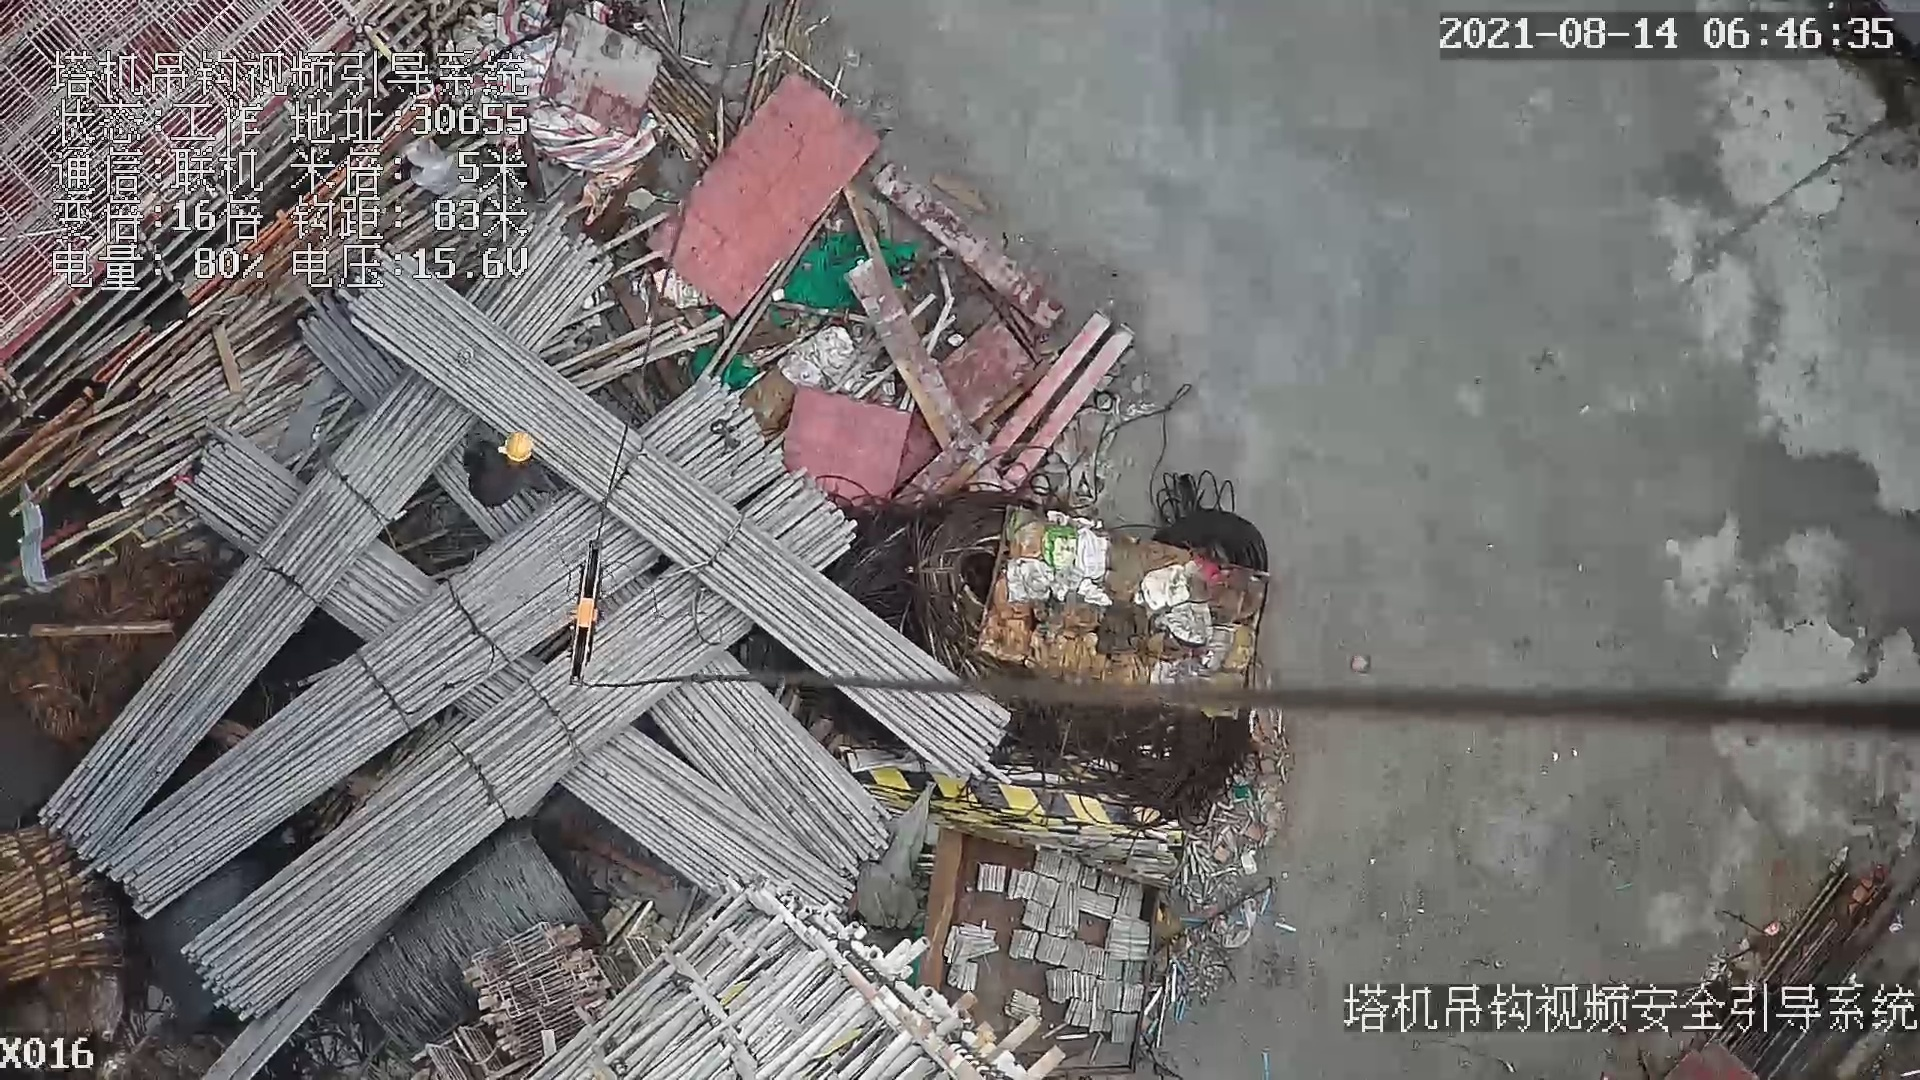board: (647, 68, 884, 319)
helmet: (501, 431, 533, 461)
hook: (565, 539, 613, 695)
person: (467, 426, 568, 513)
scaffold: (1, 832, 137, 979)
